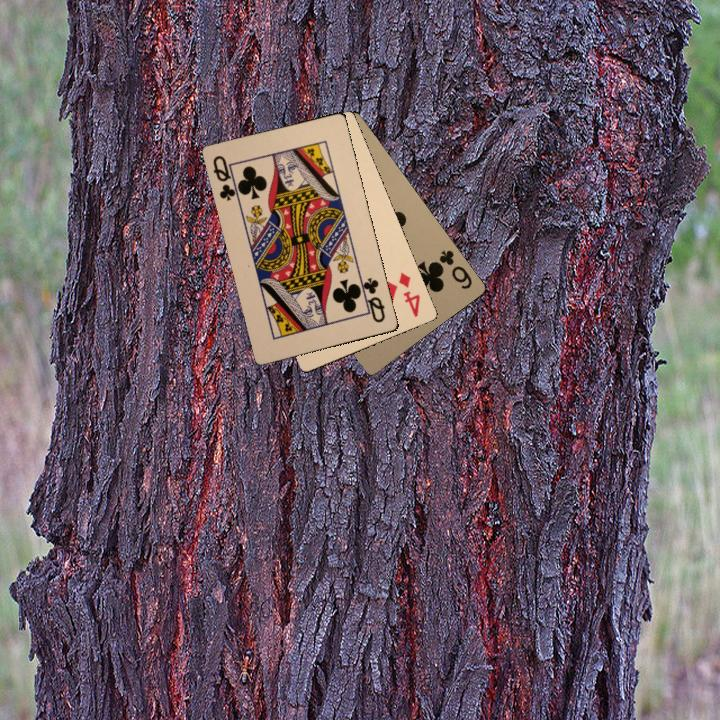4d: (394, 268, 423, 320)
6c: (431, 246, 475, 292)
Qc: (355, 273, 388, 325), (209, 151, 242, 203)
